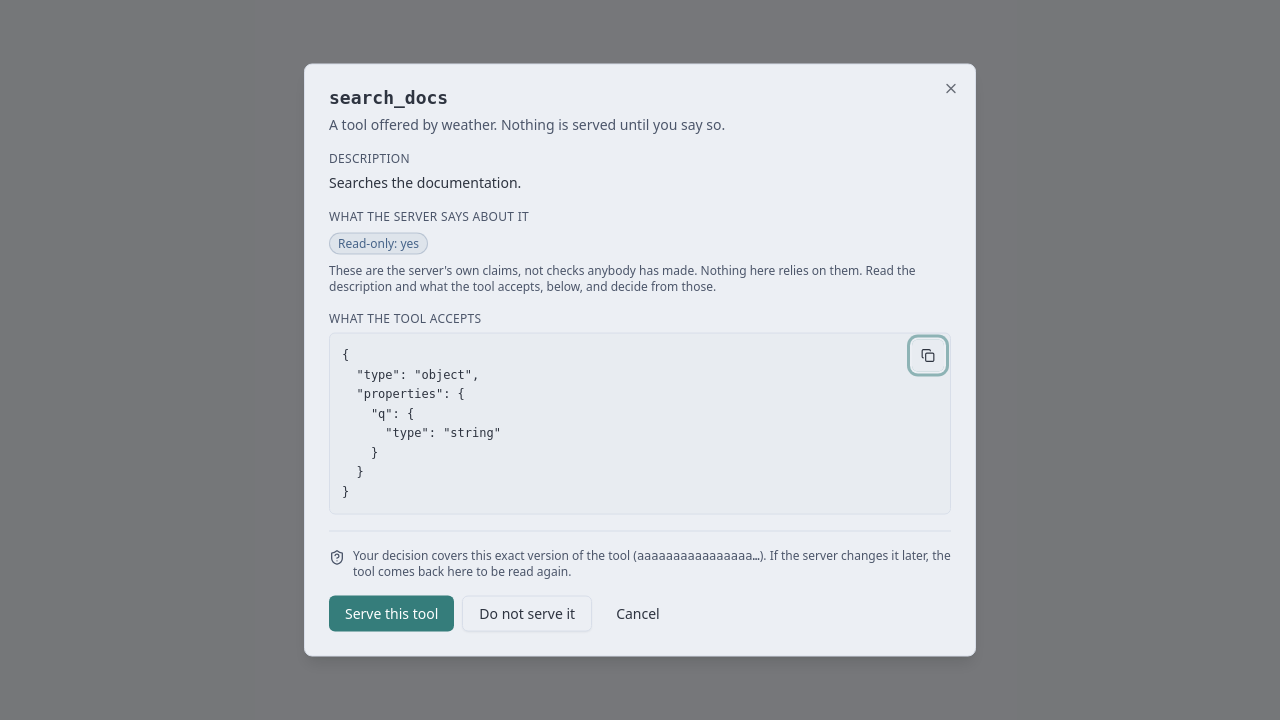
Test: when the descriptor changed underneath › says so plainly when the tool is gone from the snapshot entirely
Click the button "Serve this tool" at (392, 614), box [329, 596, 454, 632]
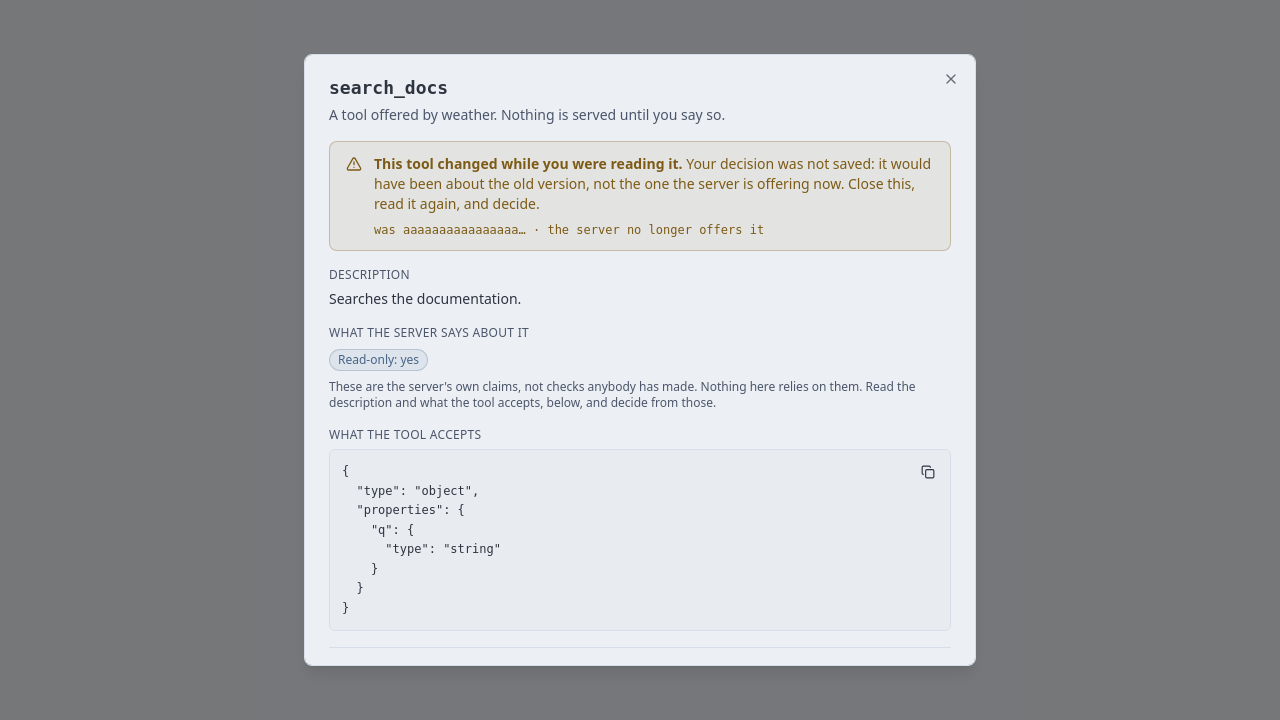
Expected: the text "was aaaaaaaaaaaaaaaa… · the server no longer offers it" is shown, [374, 222, 764, 238]
